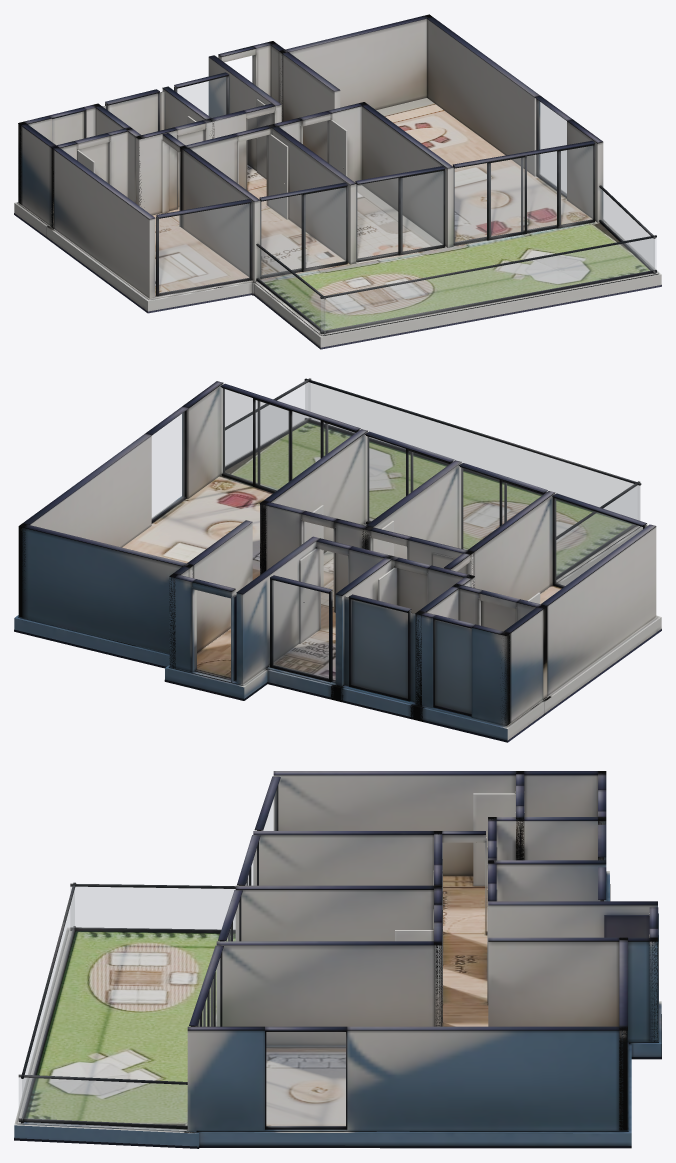
3 views of the same model, one above another, from view 1: azimuth 30°, elevation 25°; view 2: azimuth 150°, elevation 25°; view 3: azimuth 270°, elevation 25° (orthographic). The views are drawn at different scales.
Parts seen in each view (by area): view 1: plan, railg1_m, glass1_m, glass4_m, glass2_m, glass3_m, railg2_m, glass0_m, railg0_m, glass7_m; view 2: plan, railg1_m, glass1_m, glass7_m, glass6_m, glass4_m, glass2_m, glass3_m, glass5_m, glass0_m, railg2_m, railg0_m; view 3: plan, glass0_m, railg0_m, railg2_m, railg1_m.
Boxes of the visible parts, x1,y1,x2,y2 form: plan: [14, 14, 661, 349]; railg1_m: [321, 238, 656, 331]; glass1_m: [454, 146, 592, 243]; glass4_m: [159, 203, 249, 293]; glass2_m: [356, 171, 443, 259]; glass3_m: [260, 187, 345, 275]; railg2_m: [257, 247, 325, 331]; glass0_m: [538, 100, 566, 194]; railg0_m: [600, 188, 654, 271]; glass7_m: [177, 77, 226, 117]; plan: [14, 378, 661, 742]; railg1_m: [305, 382, 640, 520]; glass1_m: [222, 388, 354, 490]; glass7_m: [273, 580, 328, 678]; glass6_m: [352, 600, 407, 697]; glass4_m: [555, 498, 642, 586]; glass2_m: [367, 436, 448, 521]; glass3_m: [461, 468, 541, 549]; glass5_m: [435, 620, 470, 713]; glass0_m: [152, 412, 184, 519]; railg2_m: [557, 485, 638, 575]; railg0_m: [225, 382, 309, 466]; plan: [14, 771, 661, 1148]; glass0_m: [266, 1032, 345, 1126]; railg0_m: [19, 1077, 187, 1125]; railg2_m: [70, 887, 235, 929]; railg1_m: [22, 890, 74, 1119].
Size of the model in its own units: 12.69 by 2.62 by 13.2.
2 materials, 1 textured.
